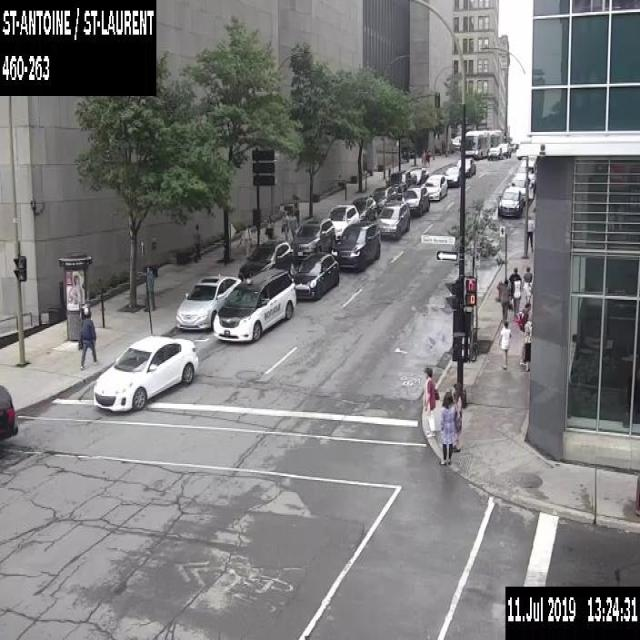bus: (464, 128, 502, 158)
pedestrian: (437, 390, 457, 464), (78, 304, 98, 371), (423, 364, 438, 436), (516, 301, 530, 365), (450, 381, 461, 452), (498, 320, 511, 369), (522, 312, 532, 371), (508, 266, 521, 311), (143, 265, 156, 310), (510, 274, 523, 318), (498, 278, 511, 322), (521, 265, 533, 303), (526, 215, 535, 256), (193, 220, 200, 263), (243, 223, 251, 255), (264, 212, 273, 238), (281, 210, 289, 239), (289, 211, 297, 239), (420, 147, 426, 166), (425, 148, 429, 167)
vehicle: (92, 330, 199, 410), (213, 267, 296, 340), (175, 274, 241, 330), (330, 220, 380, 270), (237, 240, 294, 281), (293, 250, 339, 299), (290, 217, 334, 254), (374, 199, 410, 238), (0, 381, 20, 440), (326, 204, 358, 239), (384, 169, 416, 199), (401, 186, 429, 216), (368, 185, 397, 213), (497, 187, 523, 216), (421, 173, 447, 200), (510, 172, 534, 199), (352, 196, 376, 222), (517, 158, 536, 183), (456, 156, 475, 176), (409, 166, 428, 185), (444, 166, 460, 187), (498, 141, 510, 158), (487, 145, 501, 159)
